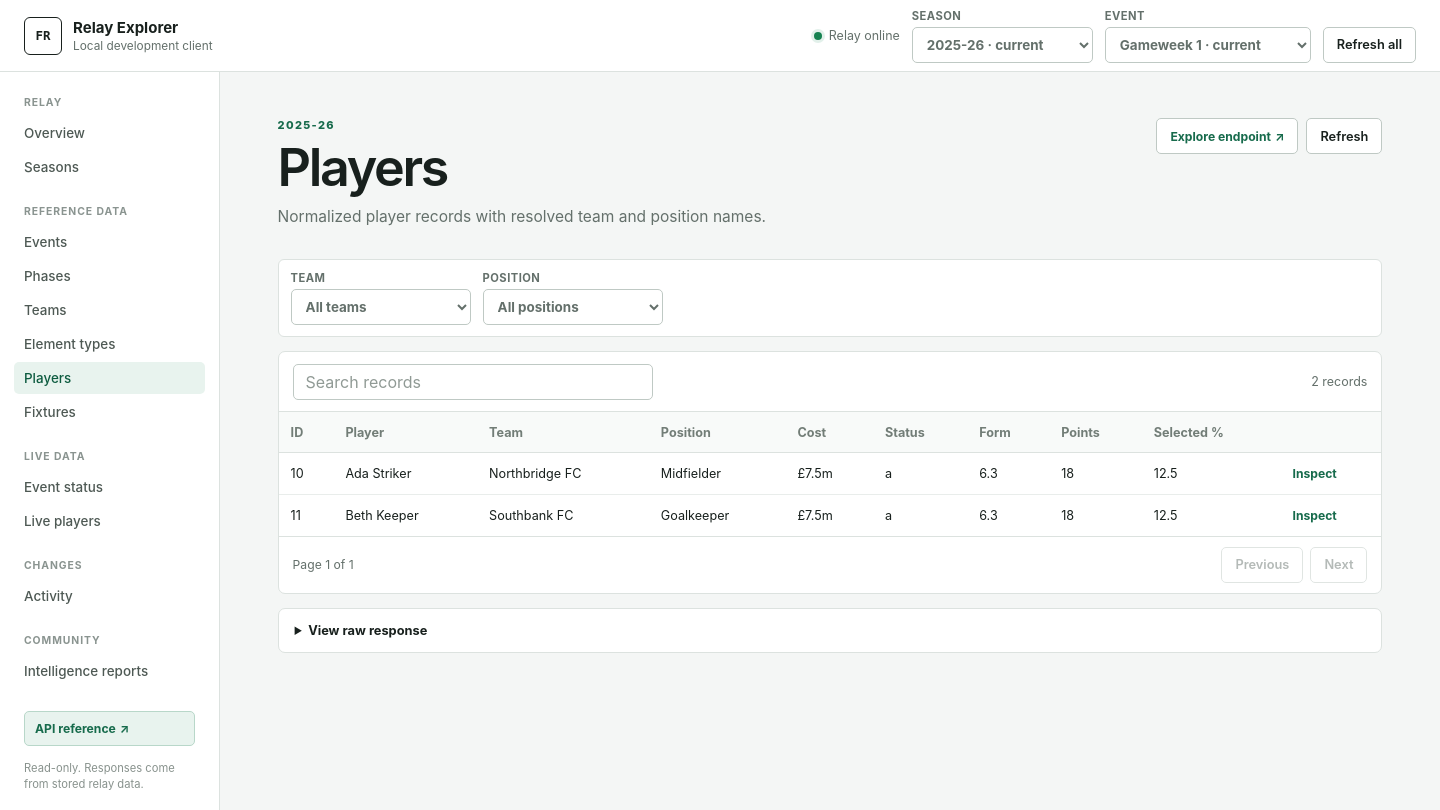
Scenario: relay explorer application › supports player filters, search, detail loading, and raw JSON
Expected: the text "Ada Striker" is shown, [333,452,477,494]
Step 1. Select "Southbank FC" in the dropdown labelled "Team" → (381, 307), box [291,289,471,325]
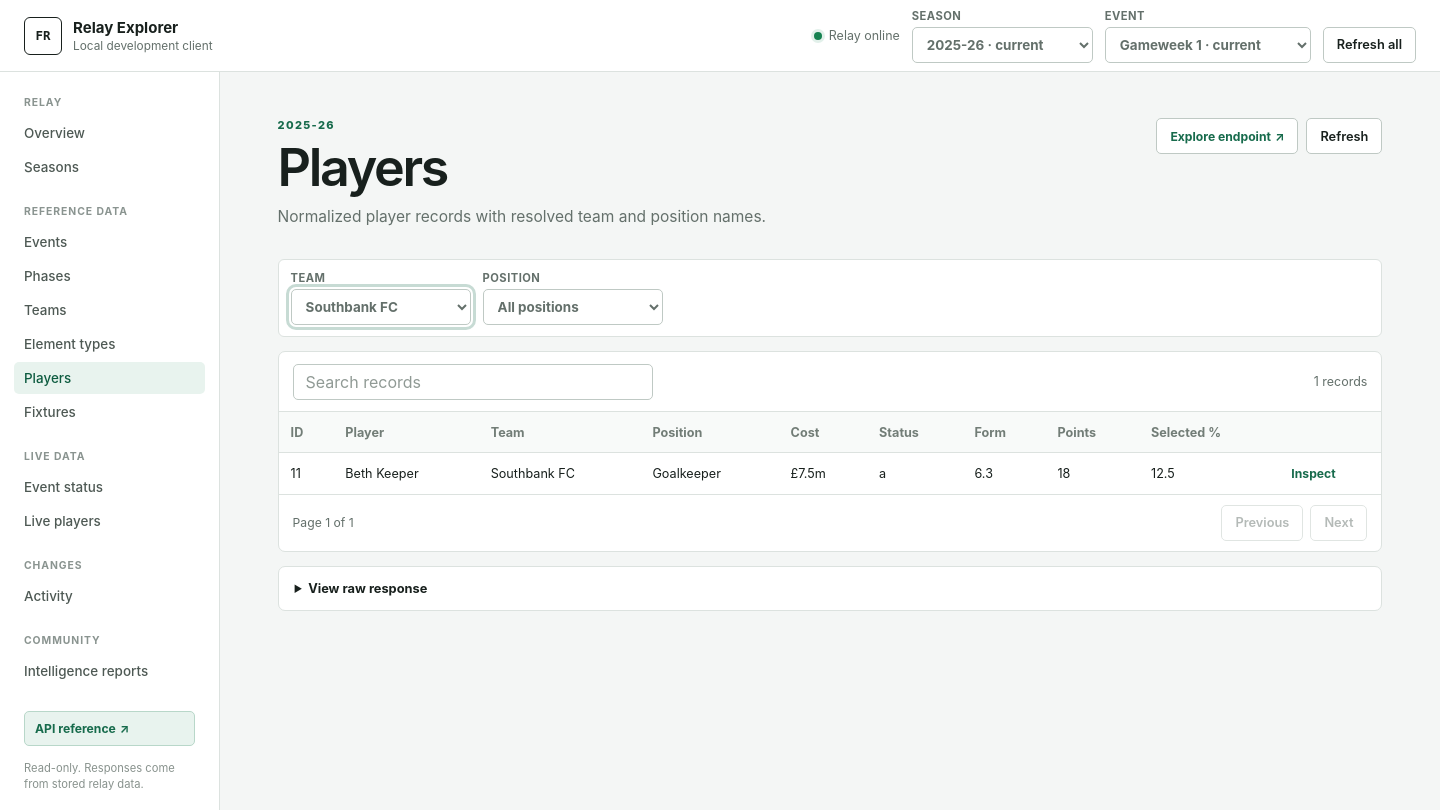
Expected: the text "Beth Keeper" is shown, [333,452,479,494]
Result: the text "Ada Striker" is gone
Step 2. Select "Goalkeeper" in the dropdown labelled "Position" → (573, 307), box [483,289,663,325]
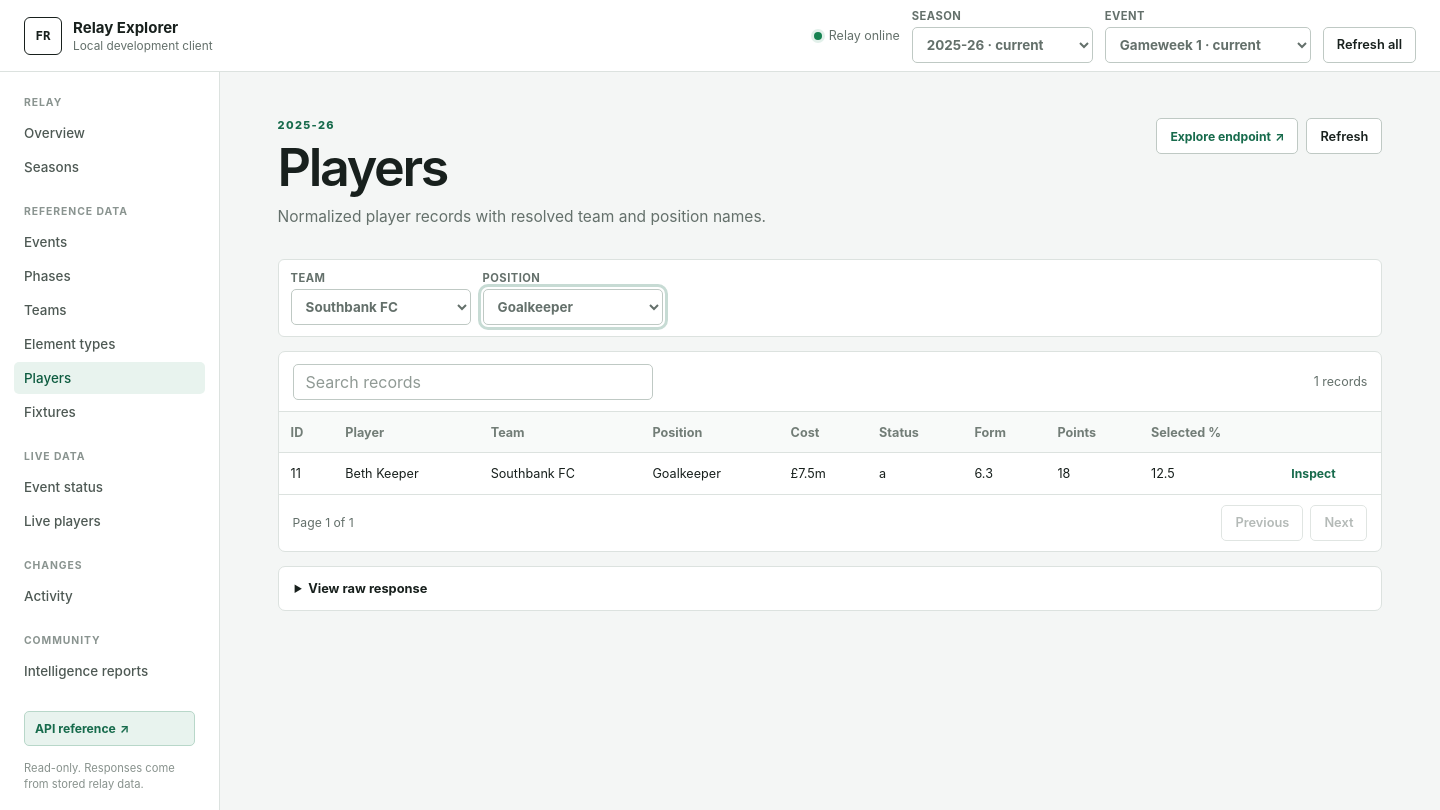
Step 3. Type "Beth" into the search field → (473, 382), box [293,364,653,400]
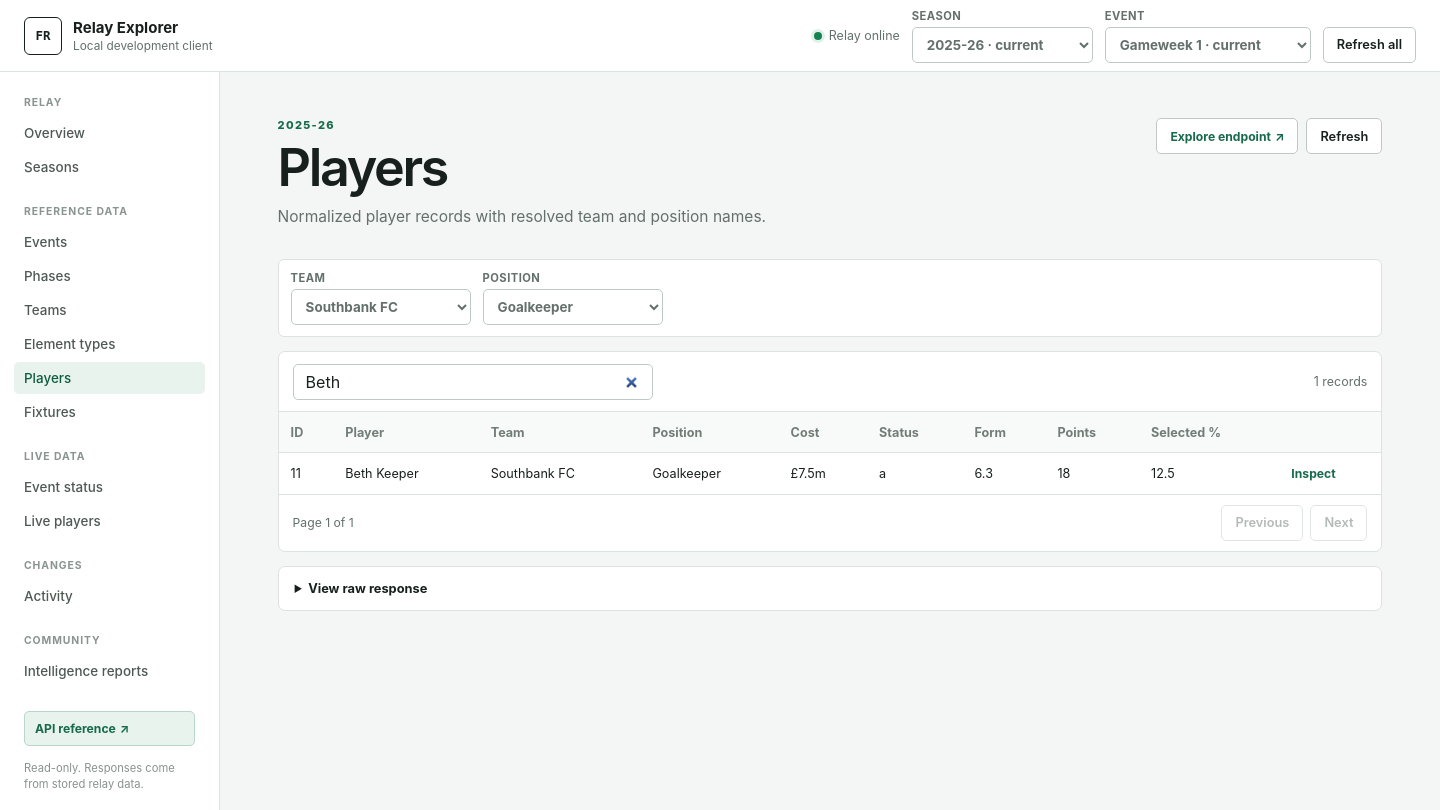
Step 4. Click the button "Inspect" → (1313, 473), box [1291,464,1336,483]
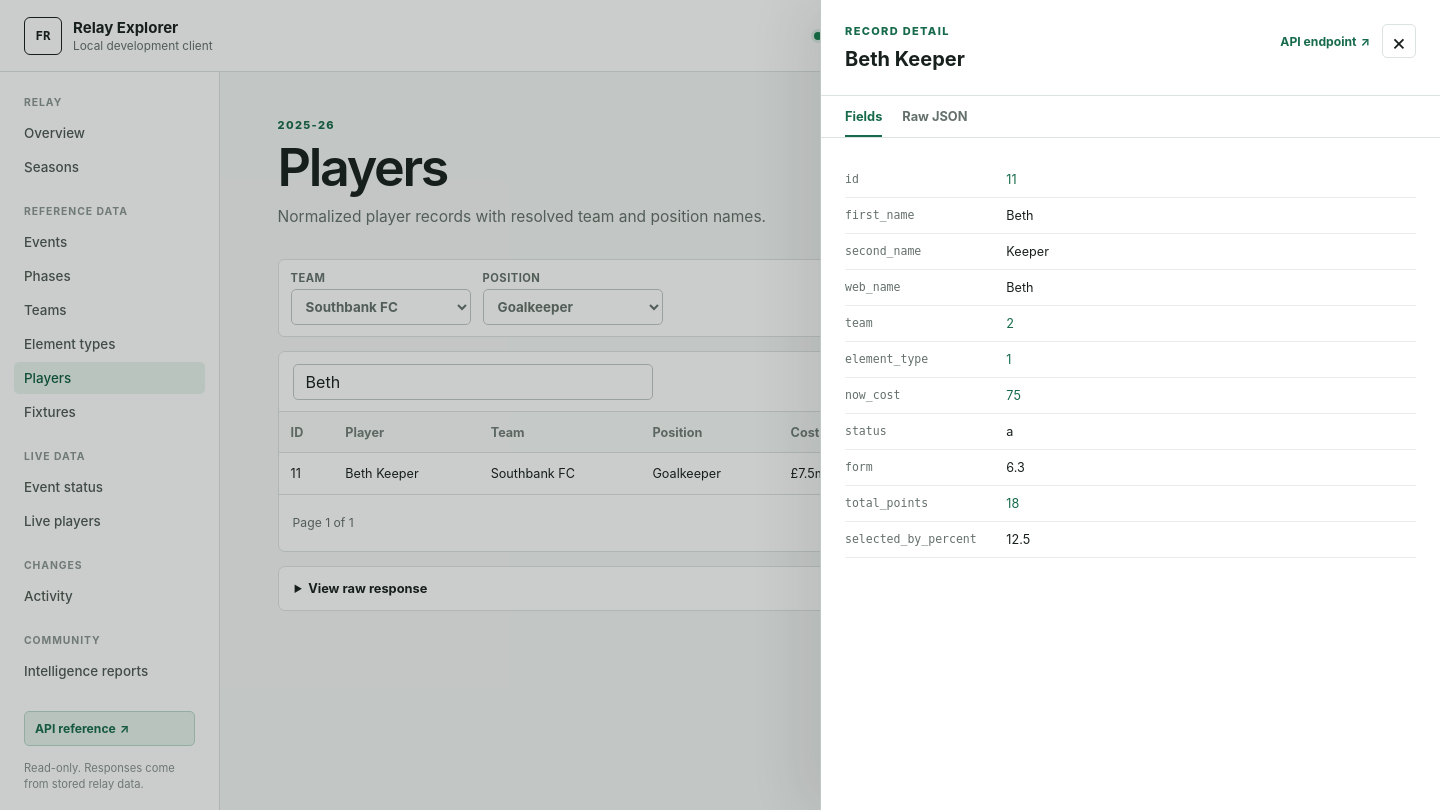
Result: the heading "Beth Keeper" is shown at [845,47,965,71]
Step 5. Click the tab "Raw JSON" → (935, 116), box [902,96,968,137]
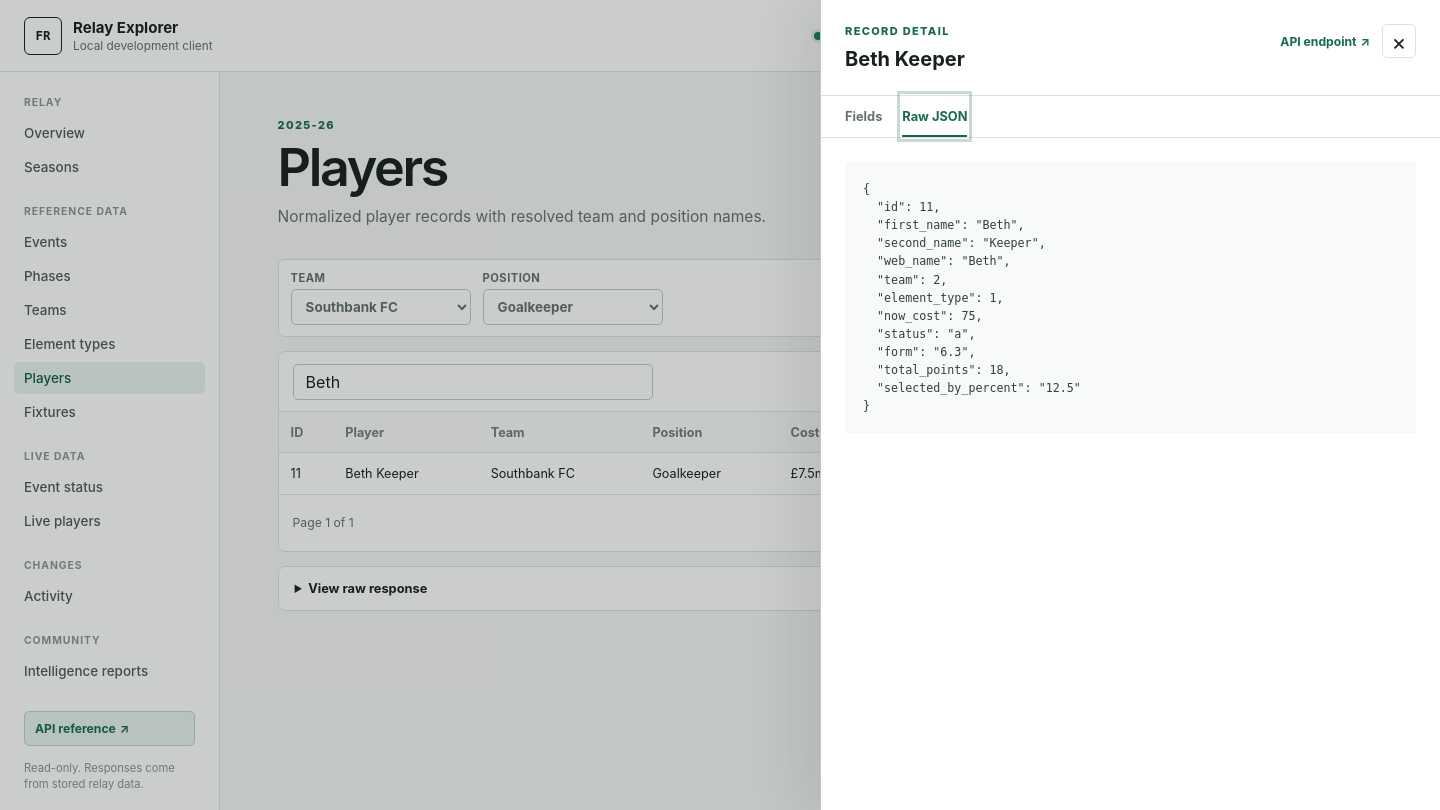
Result: the text with test id "json-view" shows "\"id\": 11" at [863,182,1081,413]
